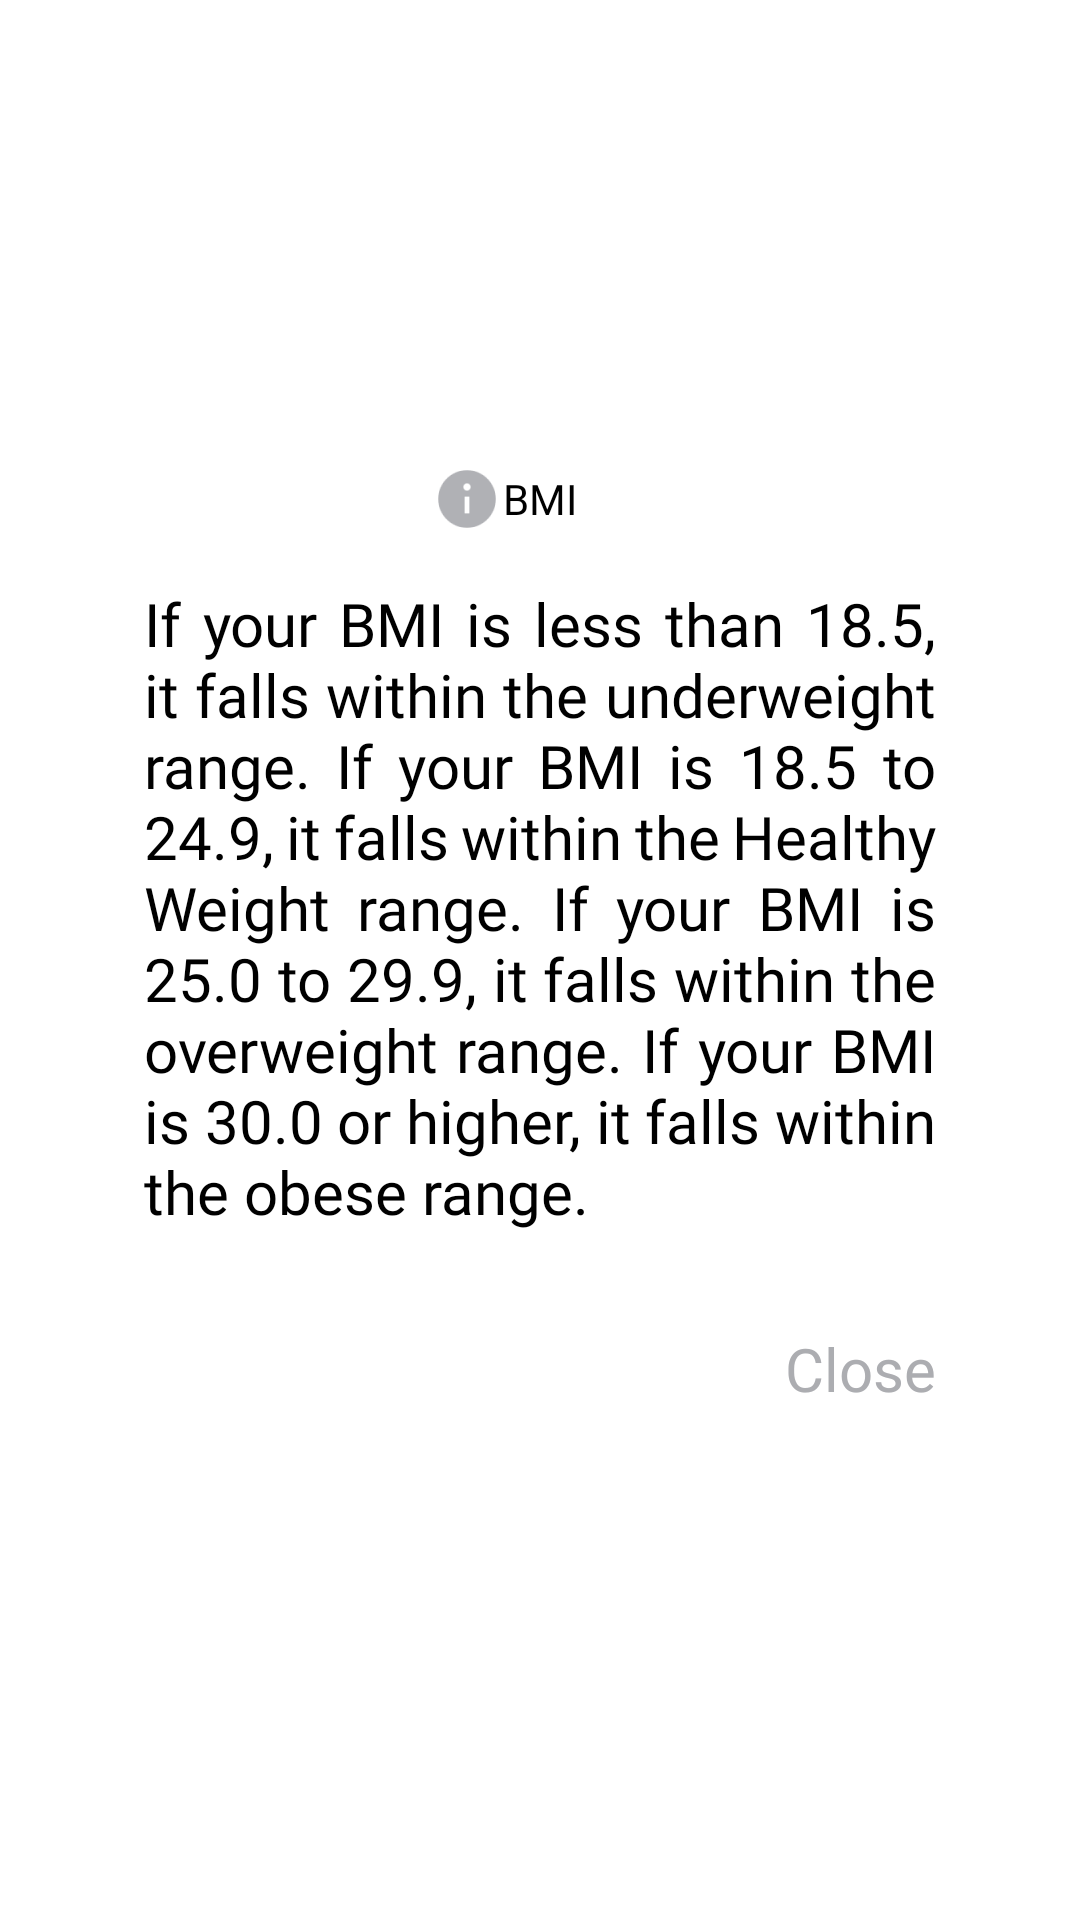

Locate icon controls on the screen. Image size 1080 × 1920, boxes as (x1, y1, x2, y2).
info: (438, 470, 496, 528)
